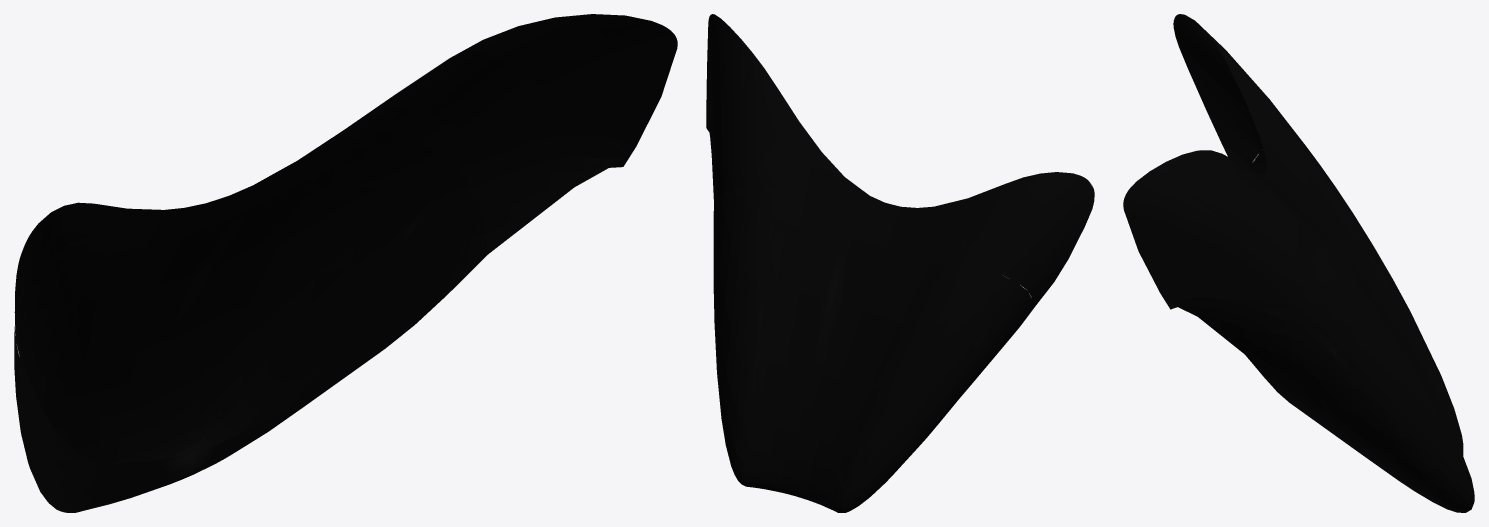
The model's file is LeftHand.obj.
The picture shows the model from 3 angles, left to right: view 1: azimuth 30°, elevation 25°; view 2: azimuth 150°, elevation 25°; view 3: azimuth 270°, elevation 25°; orthographic projection. The views are drawn at different scales.
Visible parts, largest first — view 1: Linux_Tux.007_Linux_Tux.009; view 2: Linux_Tux.007_Linux_Tux.009; view 3: Linux_Tux.007_Linux_Tux.009.
Boxes of the visible parts, x1,y1,x2,y2 form: Linux_Tux.007_Linux_Tux.009: (14, 14, 677, 512); Linux_Tux.007_Linux_Tux.009: (706, 14, 1094, 512); Linux_Tux.007_Linux_Tux.009: (1123, 14, 1474, 512).
Bounding box in the file's own units: 0.5896 × 0.4828 × 0.3469.
1 material, 1 textured.
